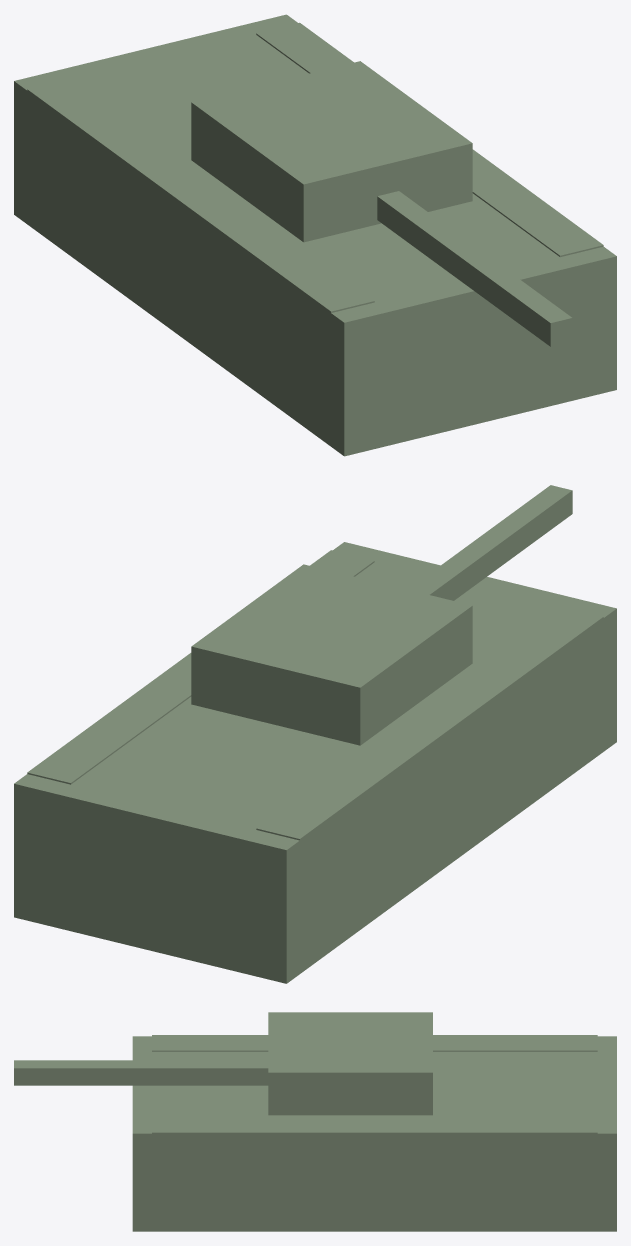
3 views of the same model, one above another, from view 1: azimuth 30°, elevation 25°; view 2: azimuth 150°, elevation 25°; view 3: azimuth 270°, elevation 25° (orthographic). The views are drawn at different scales.
Visible parts, largest first — view 1: Hull, Turret, Track_L, Gun, Track_R; view 2: Hull, Turret, Track_L, Track_R, Gun; view 3: Hull, Track_R, Turret, Gun, Track_L.
Boxes of the visible parts, left/top/right/bottom form: Hull: left=14, top=14, right=616, bottom=456; Turret: left=191, top=61, right=472, bottom=242; Track_L: left=27, top=78, right=374, bottom=376; Gun: left=377, top=191, right=572, bottom=346; Track_R: left=256, top=22, right=603, bottom=257; Hull: left=14, top=542, right=616, bottom=983; Turret: left=191, top=564, right=472, bottom=745; Track_L: left=256, top=606, right=603, bottom=901; Track_R: left=27, top=550, right=374, bottom=784; Gun: left=408, top=485, right=572, bottom=600; Hull: left=132, top=1036, right=616, bottom=1231; Track_R: left=152, top=1117, right=597, bottom=1180; Turret: left=268, top=1012, right=432, bottom=1115; Gun: left=14, top=1060, right=268, bottom=1085; Track_L: left=152, top=1035, right=597, bottom=1051.
Size of the model in its own units: 3.15 by 2.12 by 8.23.
